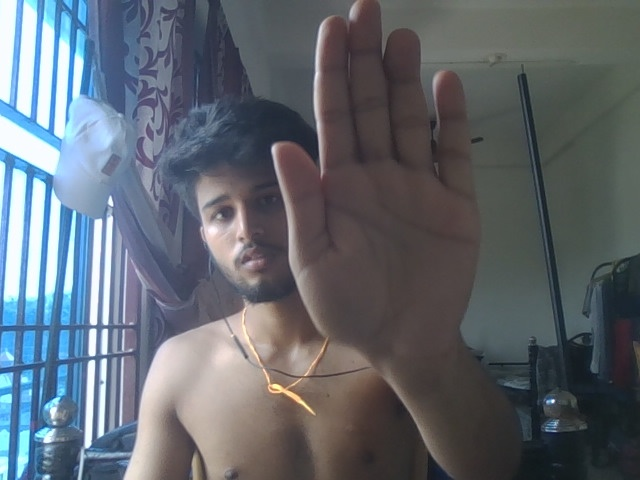hello: (256, 6, 541, 375)
